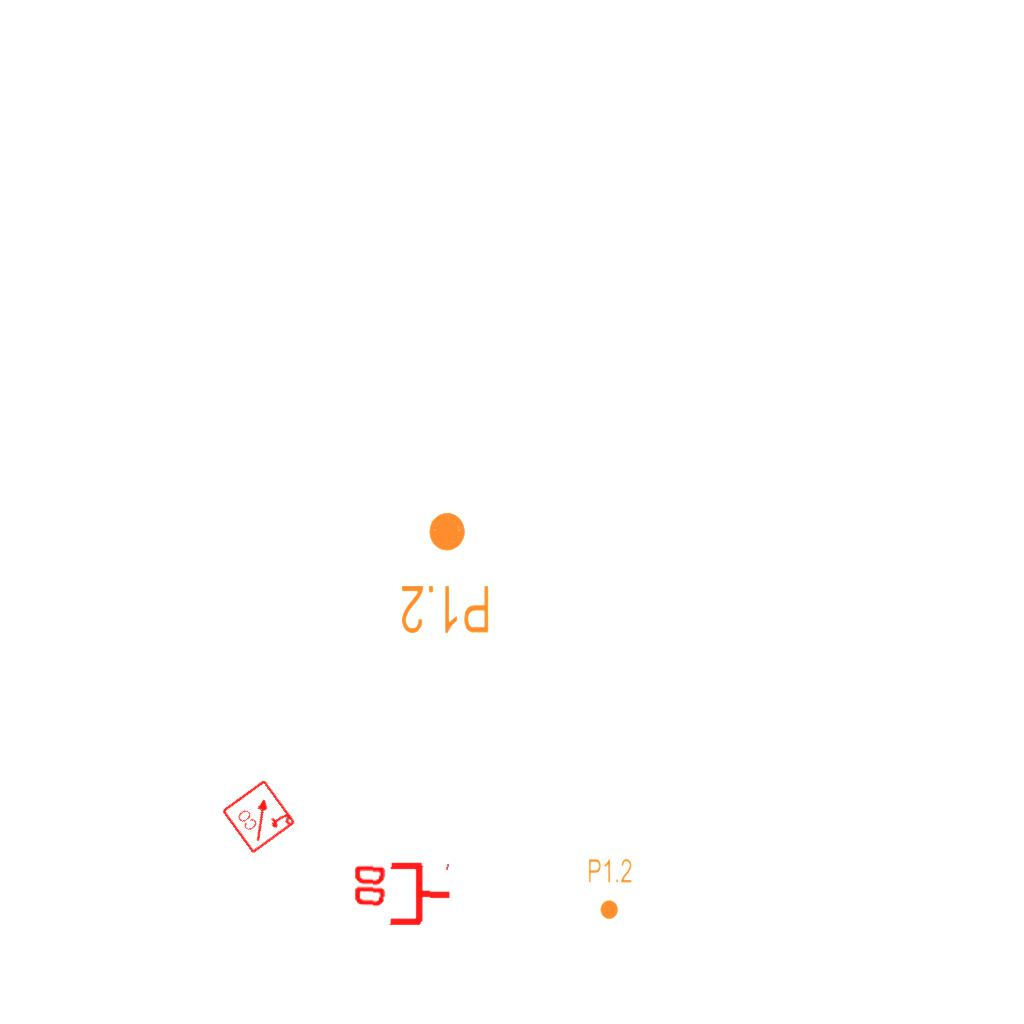Datenanschluss_zweifach: (349, 860, 454, 931)
Downlight_LED_Einbauleuchten_Flur: (399, 509, 492, 637), (587, 857, 633, 921)
ROA_Rauchmelder_optisch_mit_Signalgeber_(Sockelsirene): (219, 776, 299, 856)
